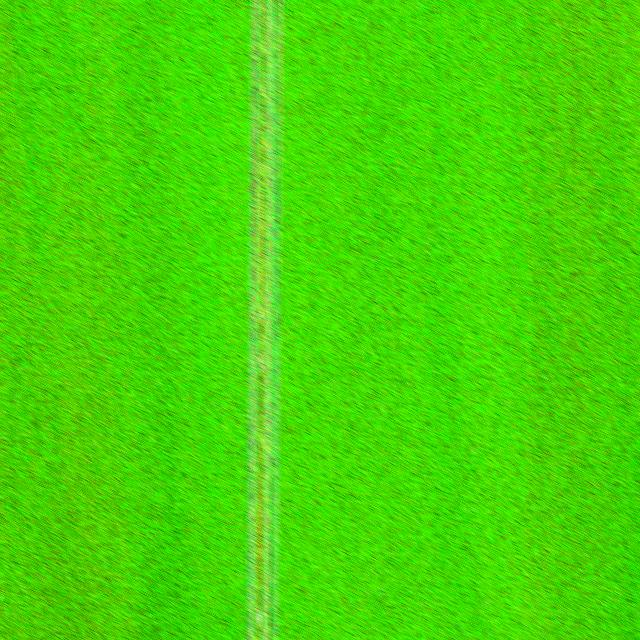BLS: (256, 0, 265, 635), (249, 0, 257, 635), (268, 465, 273, 636), (273, 0, 276, 29)
